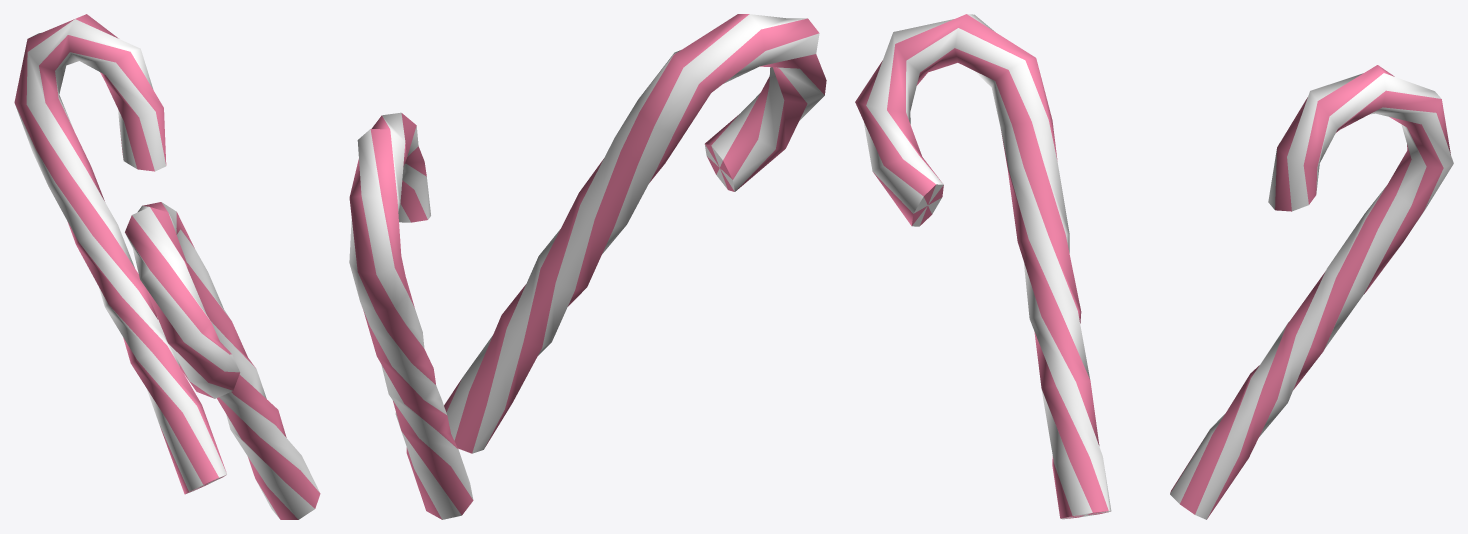
File: Candy01.fbx
3 views of the same model, side by side, from view 1: azimuth 30°, elevation 25°; view 2: azimuth 150°, elevation 25°; view 3: azimuth 270°, elevation 25° (orthographic). The views are drawn at different scales.
Parts seen in each view (by area): view 1: Candy01; view 2: Candy01; view 3: Candy01.
Part boxes in pixels (x1,y1,x2,y2): Candy01: [14, 14, 320, 519]; Candy01: [349, 14, 826, 519]; Candy01: [855, 14, 1453, 519].
Bounding box in the file's own units: 293 × 458 × 573.
